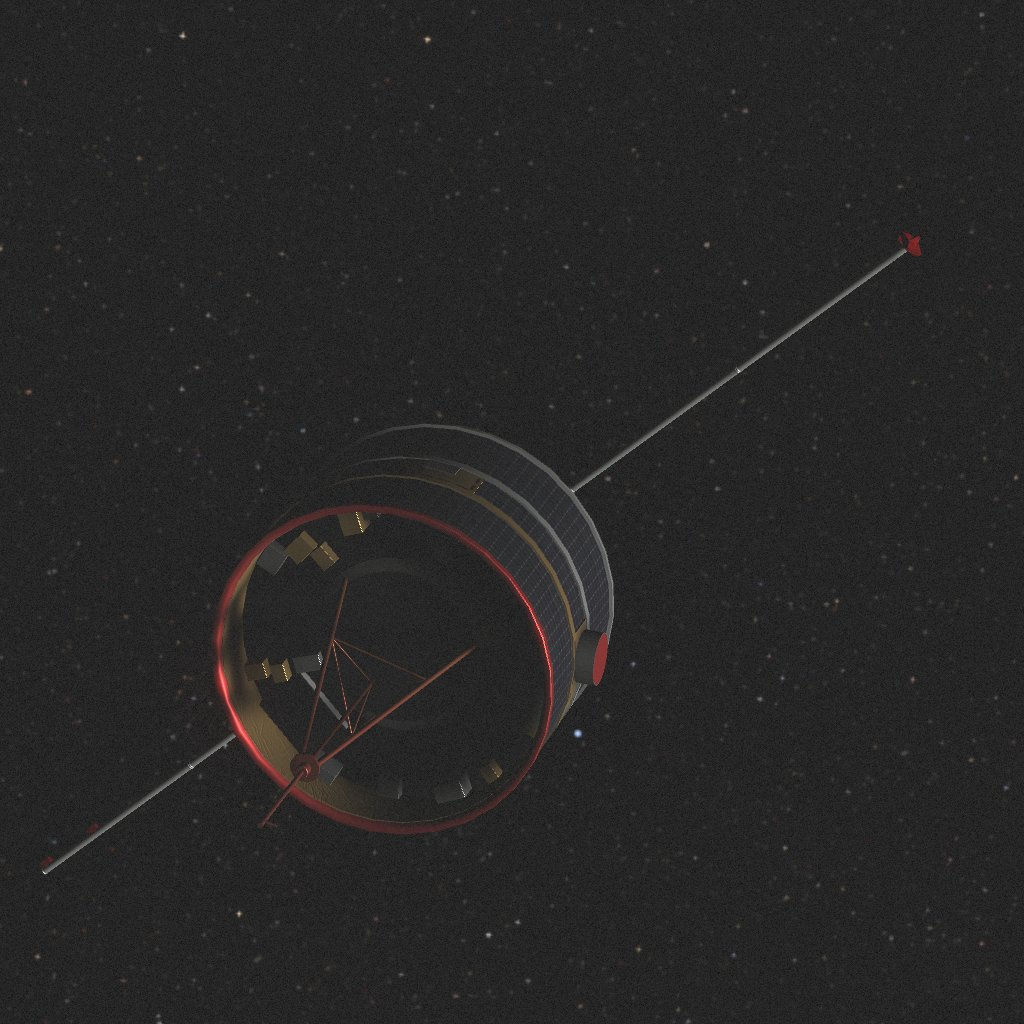double_star: (40, 232, 921, 874)
